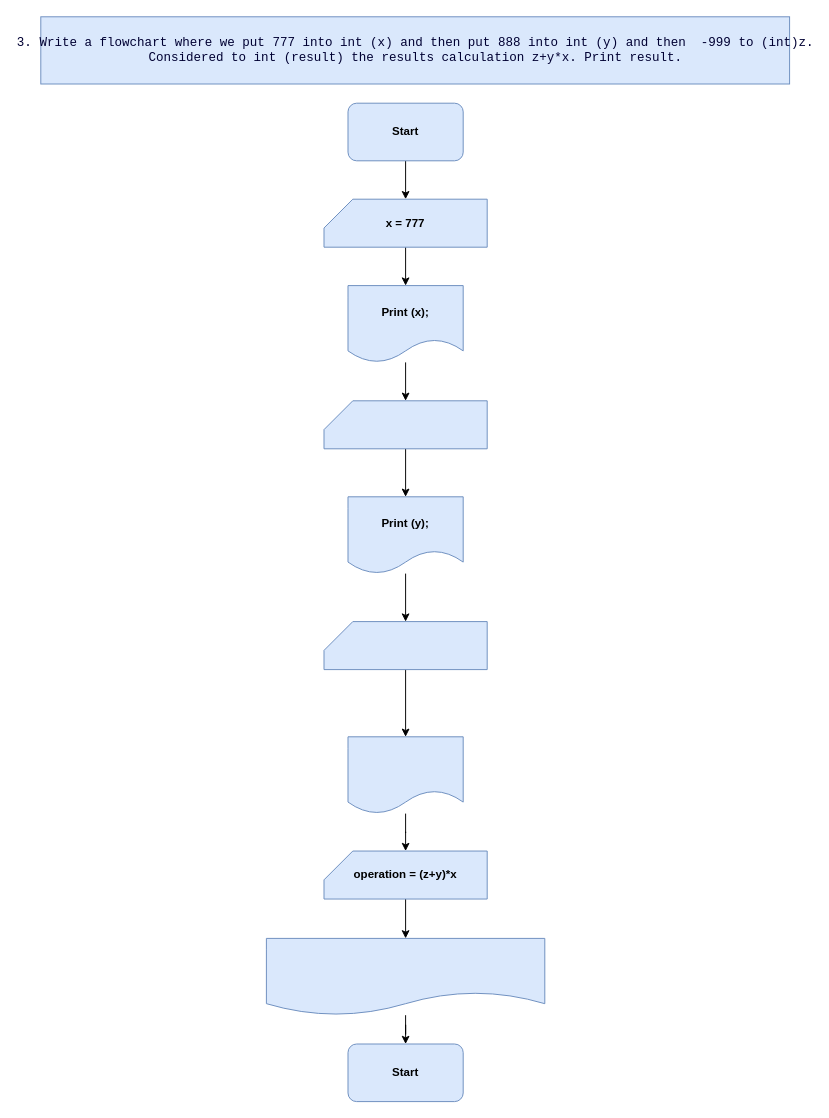
Image size: 829x1118. Some labels were removed from this diagram. The box of each missing label's shape, as (x1, y1, x2, y2) in pixels:
Print (z);: (347, 736, 463, 814)
Print("The result for (z+y)*x is", operation);: (265, 937, 545, 1015)
y = 888: (323, 400, 487, 449)
z = -999: (323, 621, 487, 670)
